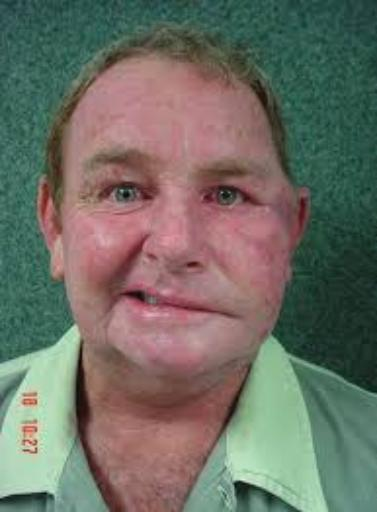left_eye: (202, 185, 257, 212)
left_lip_corner: (206, 306, 246, 328)
right_eye: (98, 181, 155, 207)
right_lip_corner: (114, 286, 135, 308)
